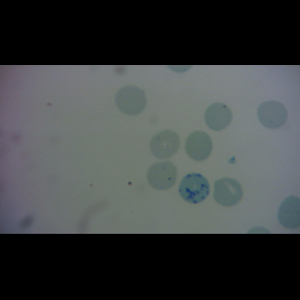aggregate reticulocyte: (178, 173, 210, 204)
erythrocyte: (114, 84, 147, 116), (255, 100, 290, 129), (212, 177, 243, 207), (184, 130, 213, 162)
punctate reticulocyte: (146, 160, 179, 191), (203, 101, 234, 132), (149, 130, 181, 160)
